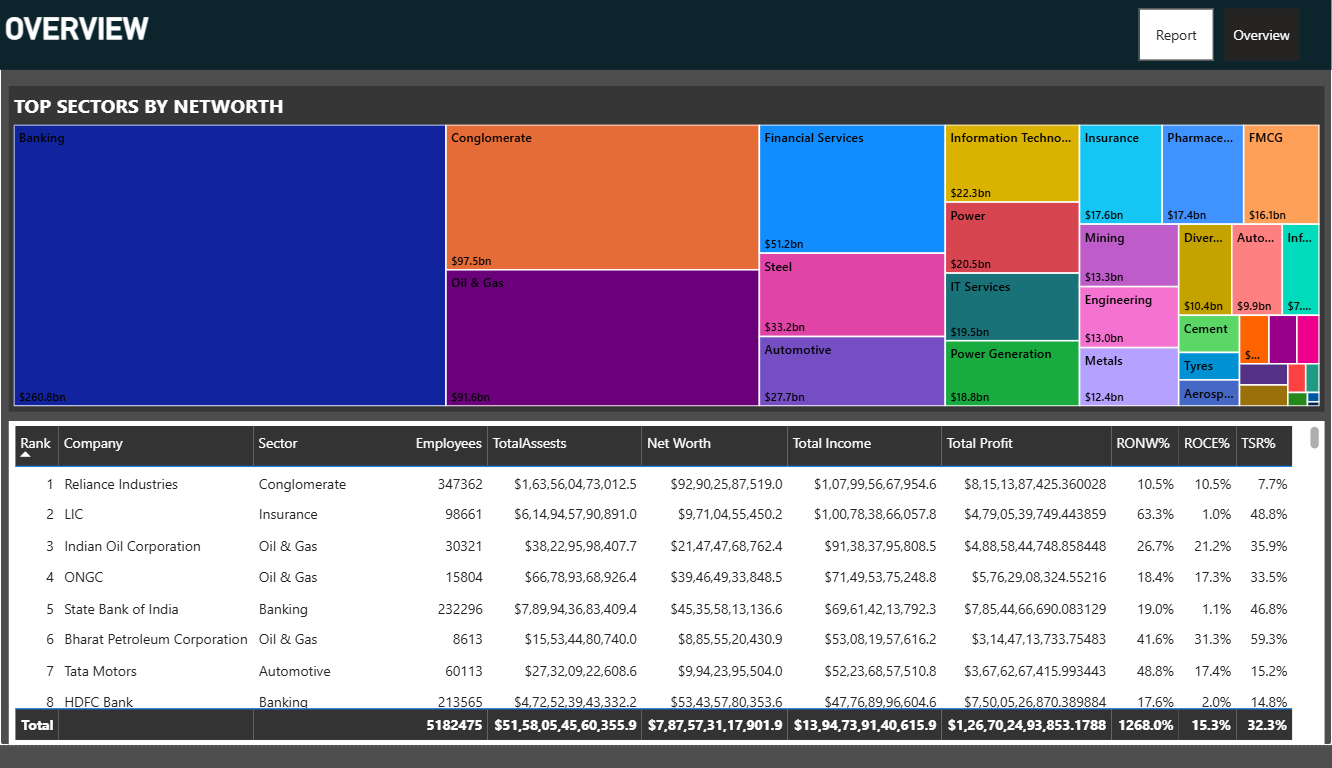

This screenshot's page, from the dashboard's own definition file:
{"tool":"powerbi","page":{"name":"Overview","canvas":[1280,720],"ordinal":1},"visuals":[{"type":"shape","box":[0,0,1280.2,70.9],"z":0},{"type":"textbox","box":[0,9.3,701.2,45.3],"z":1000},{"type":"shape","box":[8.1,86,1264,312.8],"z":2000},{"type":"treemap","fields":{"Group":["Industry (2).Sector"],"Values":["Sum(Fortune_100_india_2024.NetWorth USD)"]},"box":[8.1,118.6,1264,280.2],"z":3000},{"type":"textbox","box":[8.1,87.2,307,41.9],"z":4000},{"type":"shape","box":[8.1,408.1,1251.2,311.6],"z":5000},{"type":"tableEx","fields":{"Values":["Industry (2).Rank","Industry (2).Company","Industry (2).Sector","Fortune_100_india_2024.Total Employees","Sum(Fortune_100_india_2024.TotalAssests USD)","Sum(Fortune_100_india_2024.NetWorth USD)","Sum(Fortune_100_india_2024.Total_Income_USD)","Fortune_100_india_2024.Total Profit USD","Sum(Fortune_100_india_2024.RONW%)","Avg(Fortune_100_india_2024.ROCE%)","Avg(Fortune_100_india_2024.TSR%)"]},"box":[8.1,408.1,1264,311.6],"z":6000},{"type":"pageNavigator","box":[1094.2,11.6,155.8,50],"z":7000}]}

Visuals, with their boxes in screenshot pixels (x1, y1, x2, y2):
shape: {"x1": 0, "y1": 24, "x2": 1264, "y2": 94}
textbox: {"x1": 0, "y1": 33, "x2": 691, "y2": 78}
shape: {"x1": 5, "y1": 109, "x2": 1256, "y2": 419}
treemap - Industry (2).Sector x Sum(Fortune_100_india_2024.NetWorth USD): {"x1": 5, "y1": 142, "x2": 1256, "y2": 419}
textbox: {"x1": 5, "y1": 111, "x2": 308, "y2": 152}
shape: {"x1": 5, "y1": 428, "x2": 1243, "y2": 737}
tableEx - Industry (2).Rank x Industry (2).Company: {"x1": 5, "y1": 428, "x2": 1256, "y2": 737}
pageNavigator: {"x1": 1080, "y1": 36, "x2": 1234, "y2": 85}
